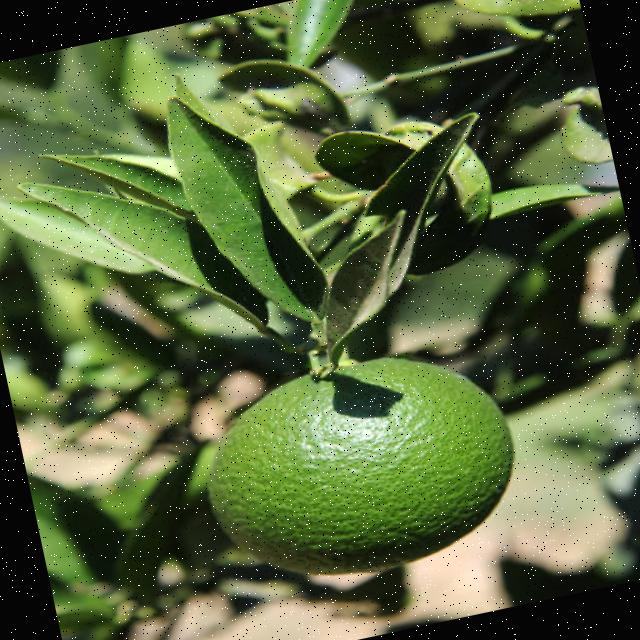Unripe: (187, 324, 536, 599)
